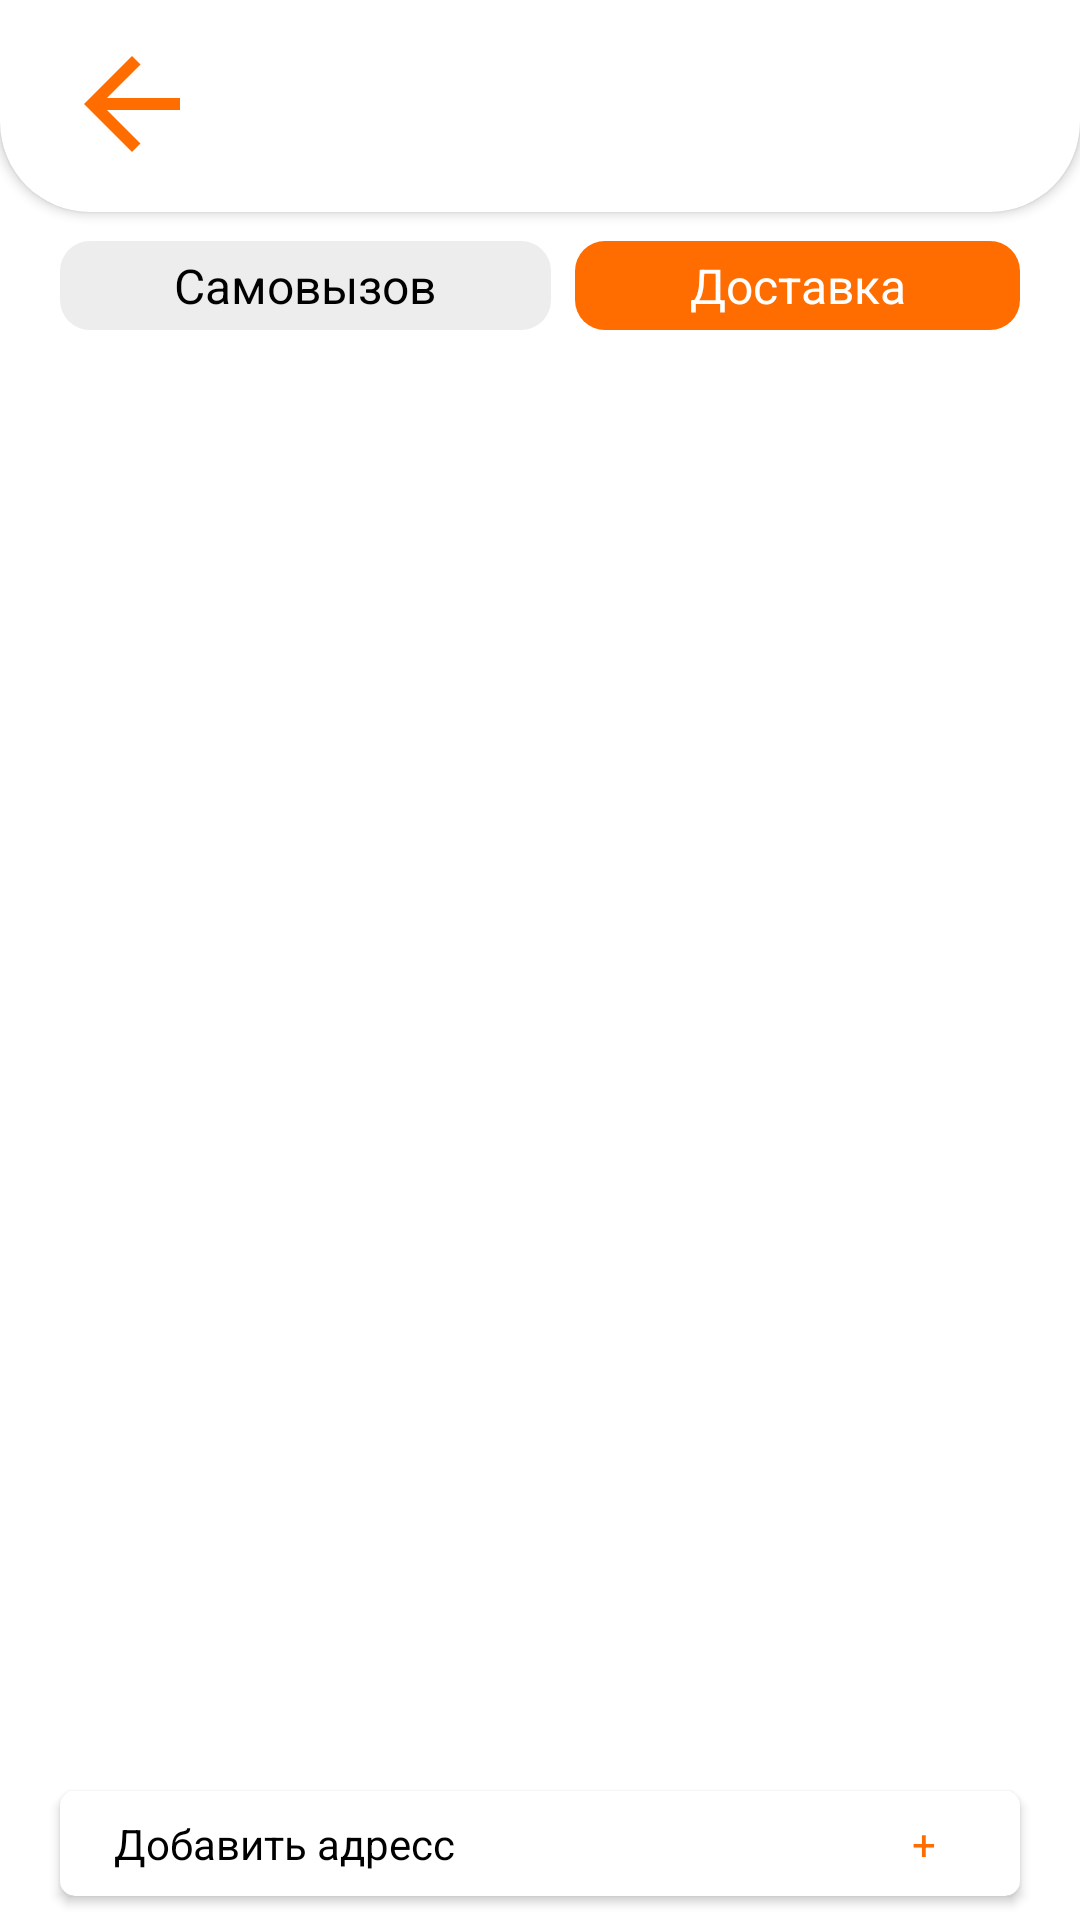

Icon click points for this 1080 x 1920 phone screenshot, format point (x, y):
arrow back: point (132, 104)
